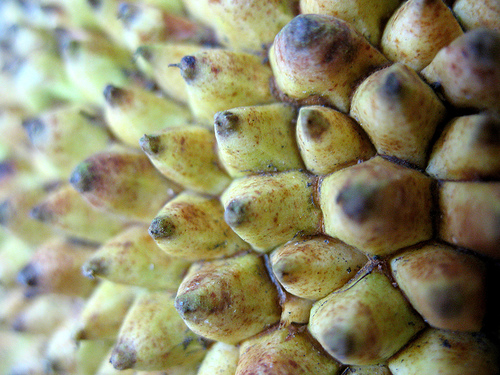jackfruit: (0, 1, 499, 374)
